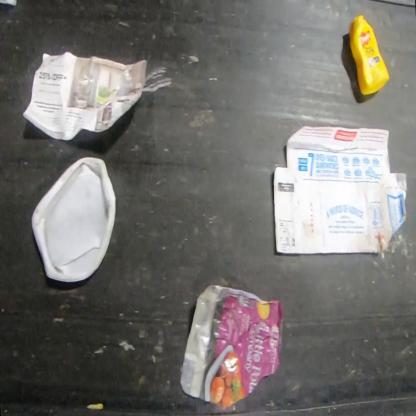cardboard: (272, 124, 407, 254)
rigid_plastic: (31, 156, 117, 283), (348, 14, 389, 96)
soft_plastic: (180, 283, 286, 408)
